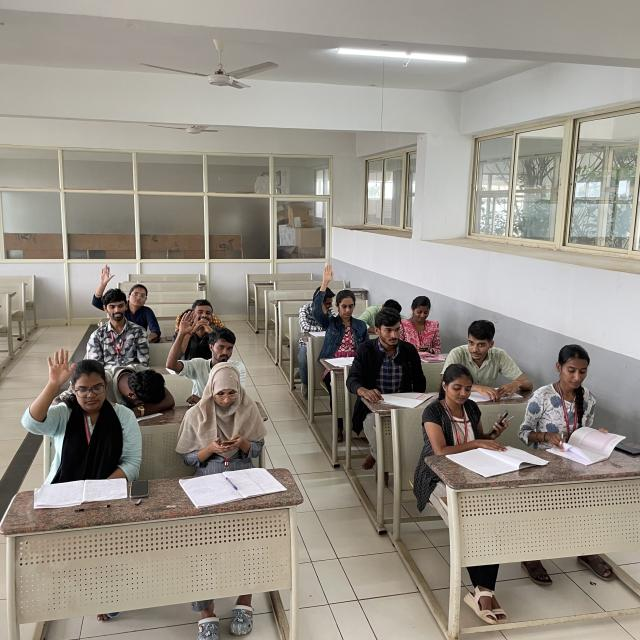Hand Rising: (27, 346, 137, 474), (168, 309, 255, 395), (310, 257, 369, 353), (90, 259, 153, 344)
Sleeping: (111, 360, 176, 419)
Using Phone: (417, 360, 514, 463), (181, 362, 270, 463), (394, 292, 446, 360)
Writing: (521, 344, 616, 468)
